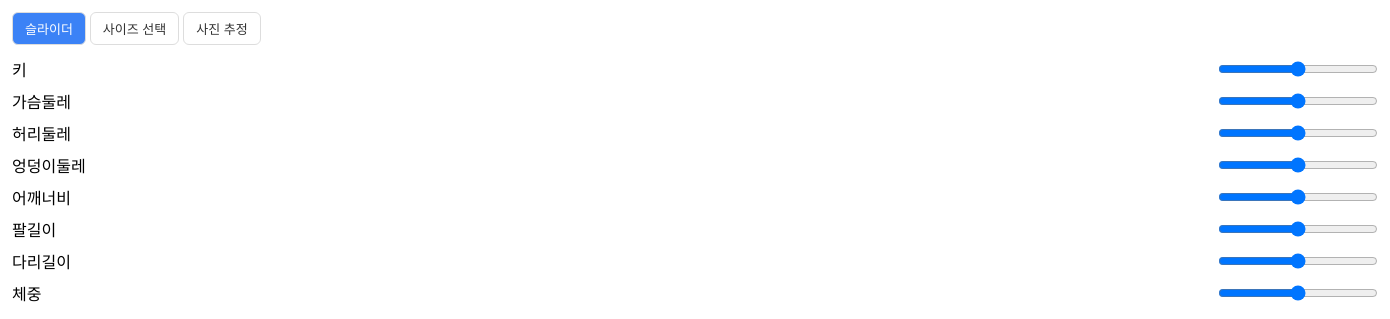
Test: MeasurementPanel 컴포넌트 › 사이즈 선택 탭 클릭 시 사이즈 선택기가 표시된다
Click the button "사이즈 선택" at (134, 28), box [90,12,179,45]
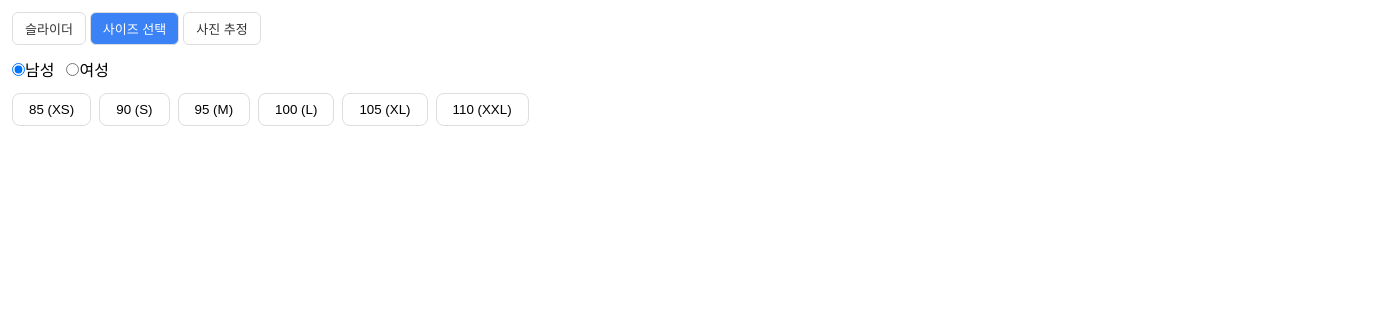
Check: the radio button labelled "남성" is shown, box [12,63,25,76]
